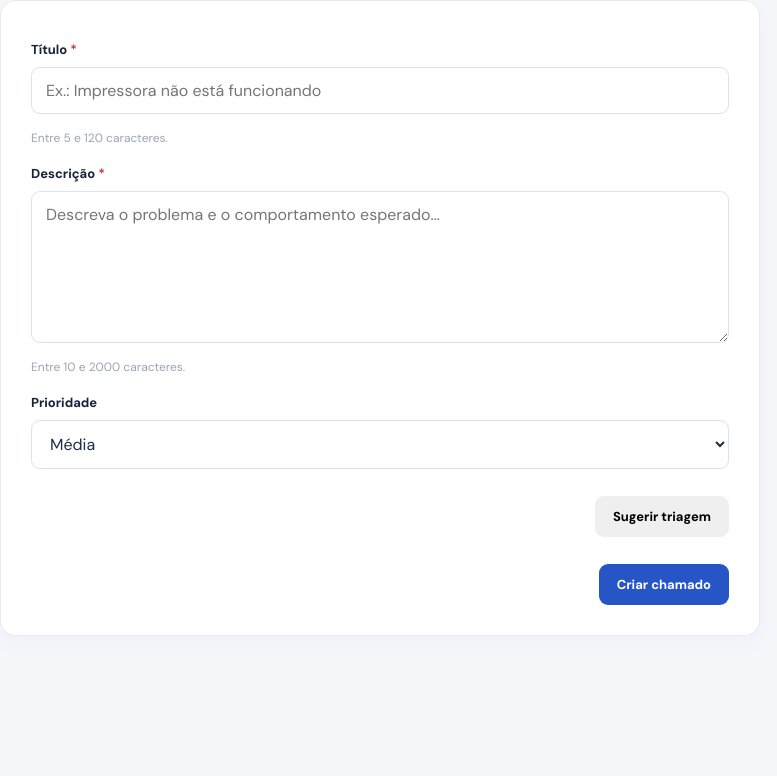
Test: TicketForm — triagem simulada › descarta sugestão se o texto do chamado for alterado
Type "Sistema fora do ar" into the field labelled "Título *" at point(380, 90), box [31, 67, 729, 114]
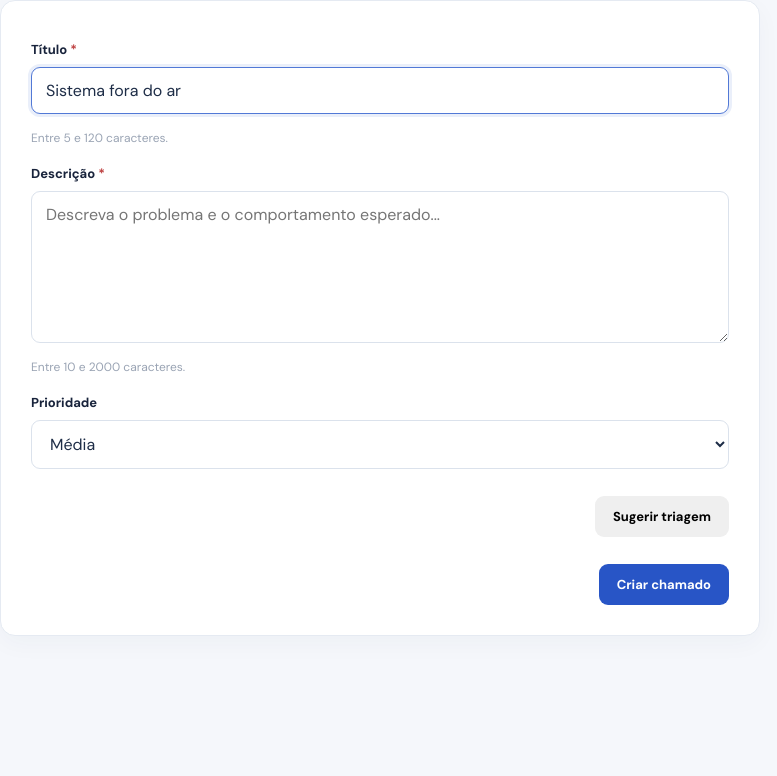
Type "Ninguém consegue emitir nota fiscal" into the text box labelled "Descrição *" at point(380, 267), box [31, 191, 729, 343]
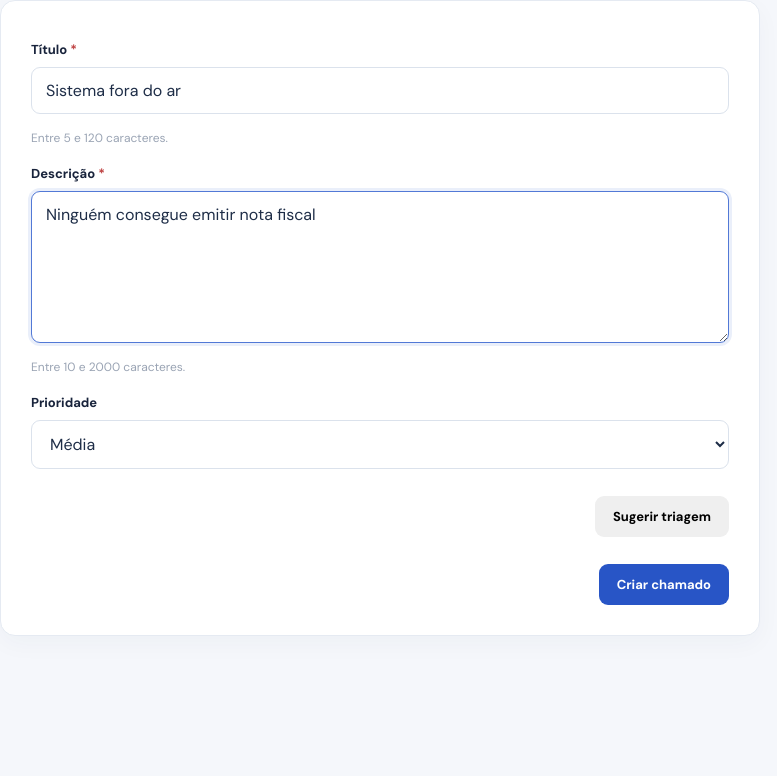
Click the button "Sugerir triagem" at point(662, 516), box [595, 496, 729, 537]
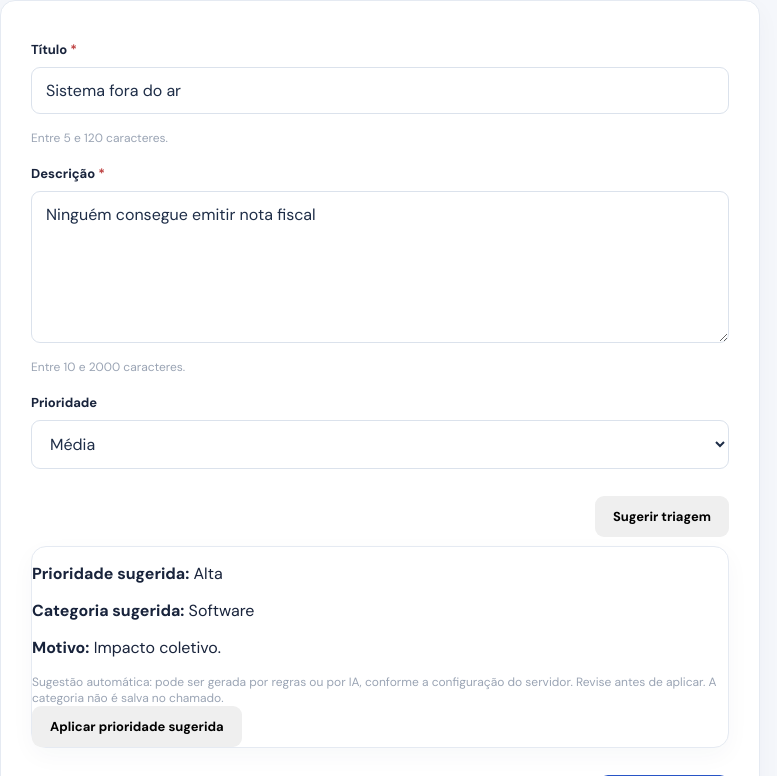
Expected: the text "Impacto coletivo." is shown, [94, 637, 221, 658]
Type " hoje" into the text box labelled "Descrição *" at point(380, 267), box [31, 191, 729, 343]
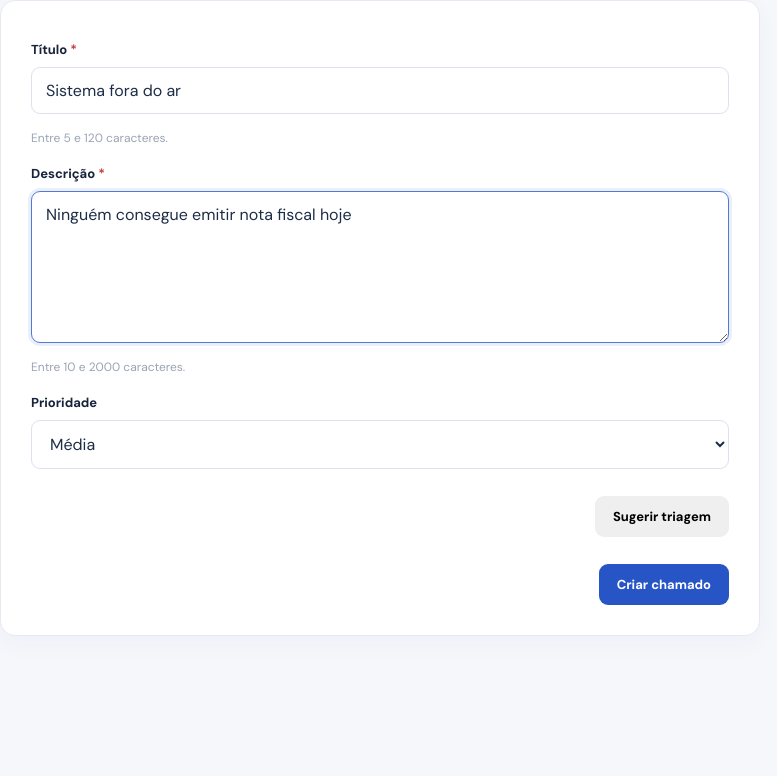
Expected: the text "Impacto coletivo." is gone
